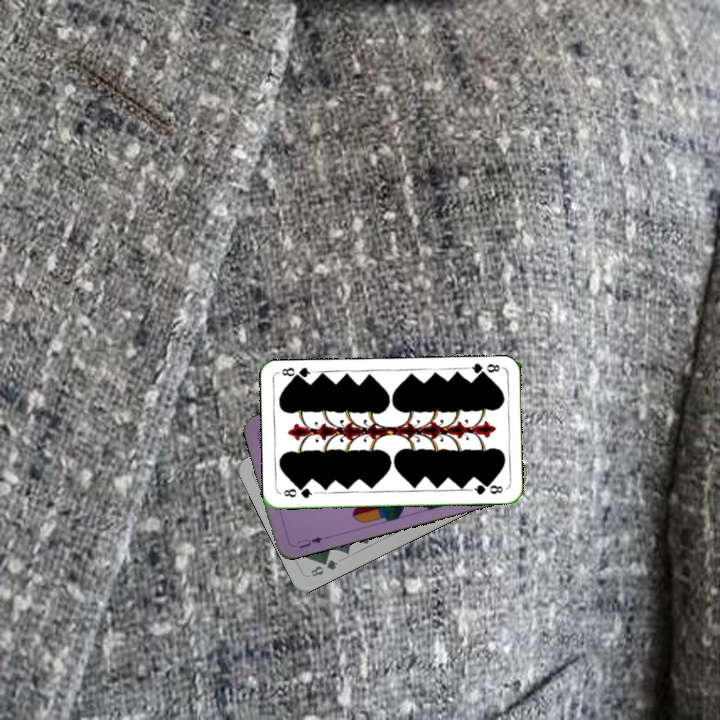EU: (293, 533, 325, 551)
G8: (306, 556, 341, 579), (464, 359, 504, 379), (279, 484, 318, 501)
